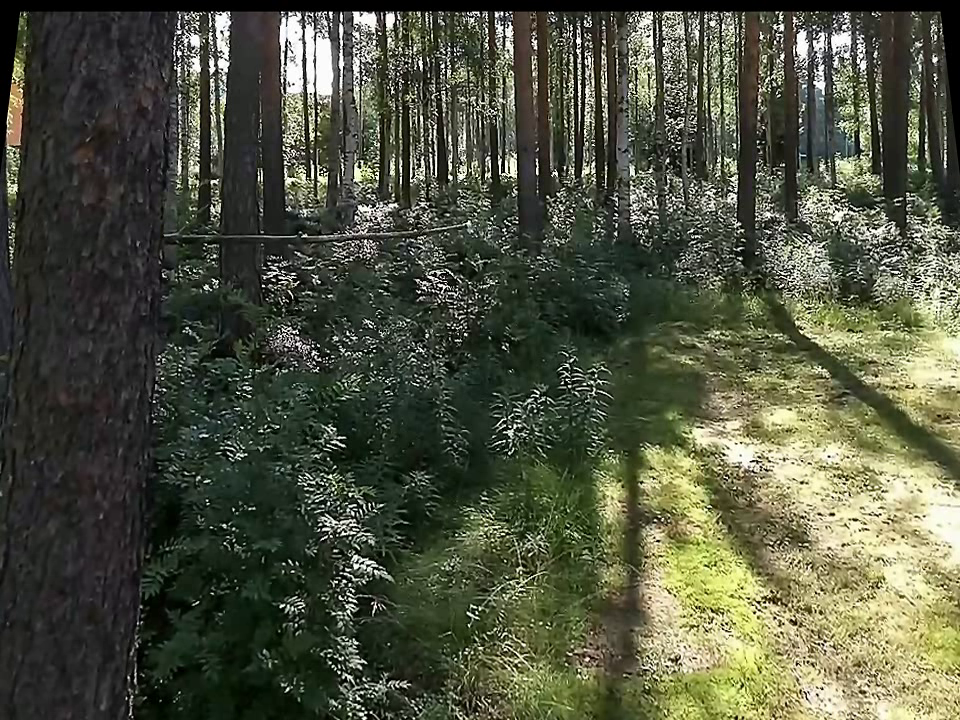branch: (166, 218, 455, 253)
